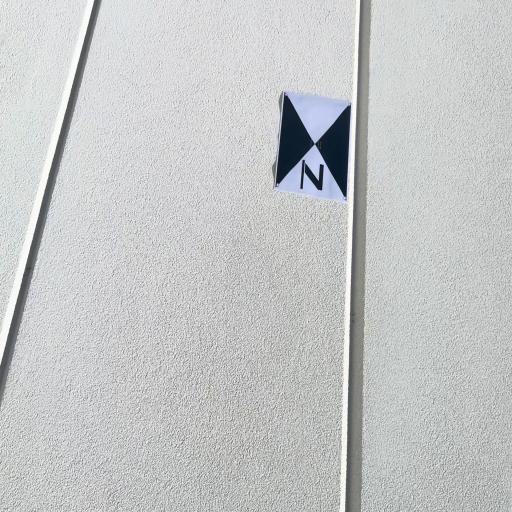target7: (274, 91, 352, 204)
